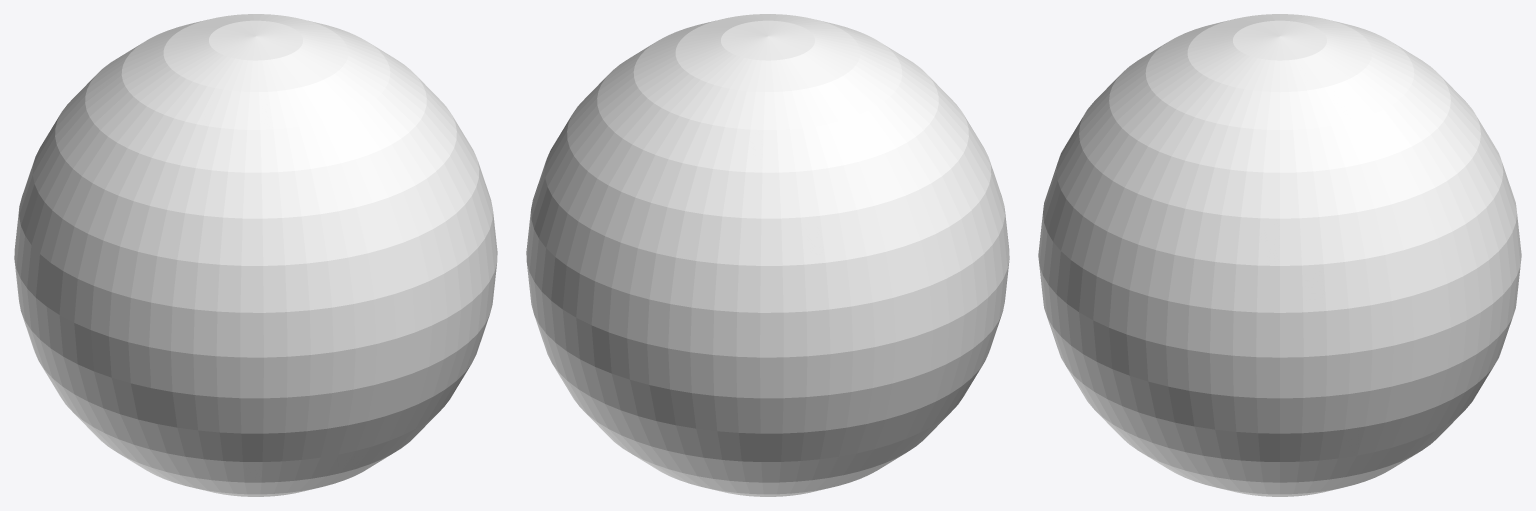
The model's file is light.glb.
The picture shows the model from 3 angles, left to right: view 1: azimuth 30°, elevation 25°; view 2: azimuth 150°, elevation 25°; view 3: azimuth 270°, elevation 25°; orthographic projection.
Visible parts, largest first — view 1: Sphere; view 2: Sphere; view 3: Sphere.
Boxes of the visible parts, x1,y1,x2,y2 form: Sphere: (14,14,497,496); Sphere: (526,14,1009,496); Sphere: (1038,14,1521,496).
Bounding box in the file's own units: 0.2 × 0.2 × 0.2.
1 material, 1 textured.
